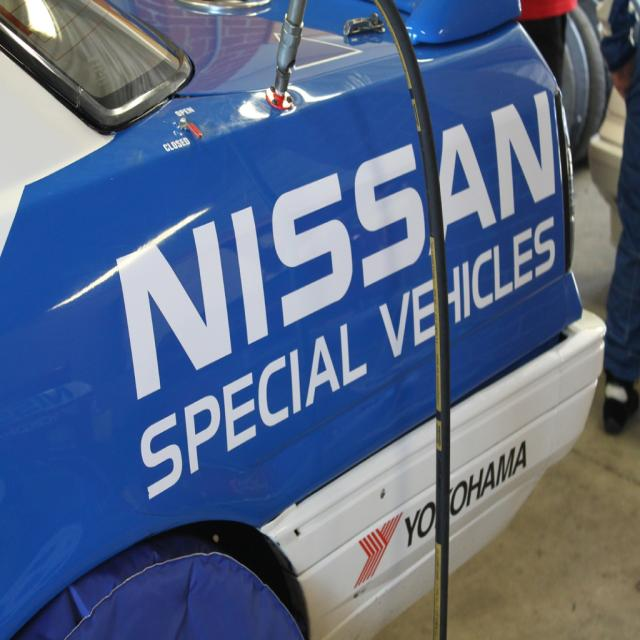car: (0, 11, 639, 608)
